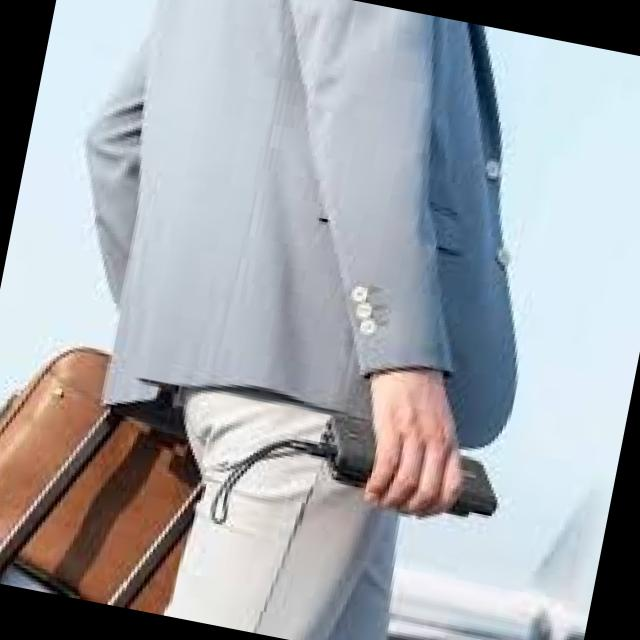portable-charger: (316, 412, 515, 520)
